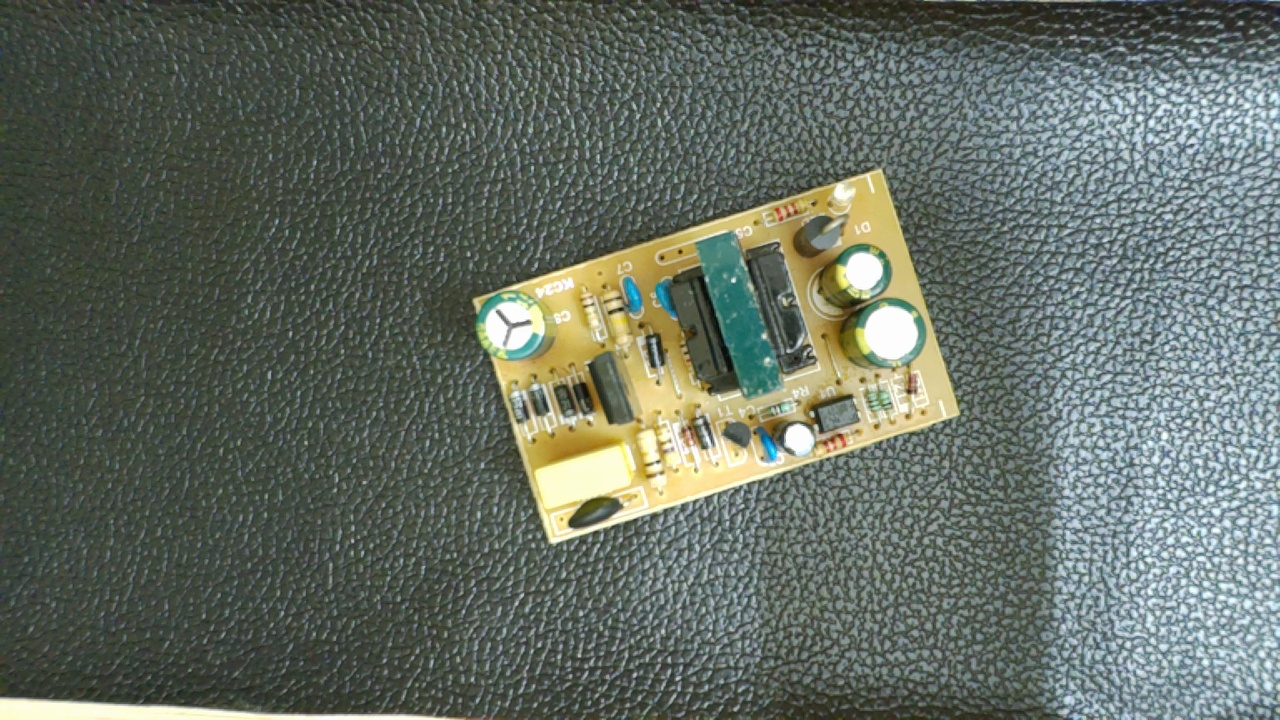fuse: (560, 494, 630, 536)
hv_capacitor: (470, 282, 561, 366)
optocoupler: (804, 390, 864, 435)
